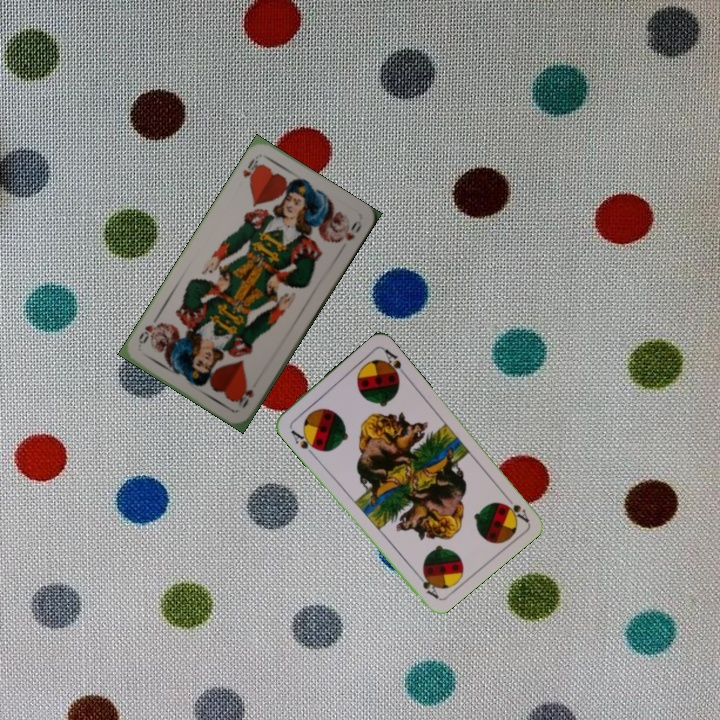HO: (238, 152, 265, 185), (234, 384, 256, 411)
SA: (498, 490, 531, 525), (286, 425, 320, 458)
